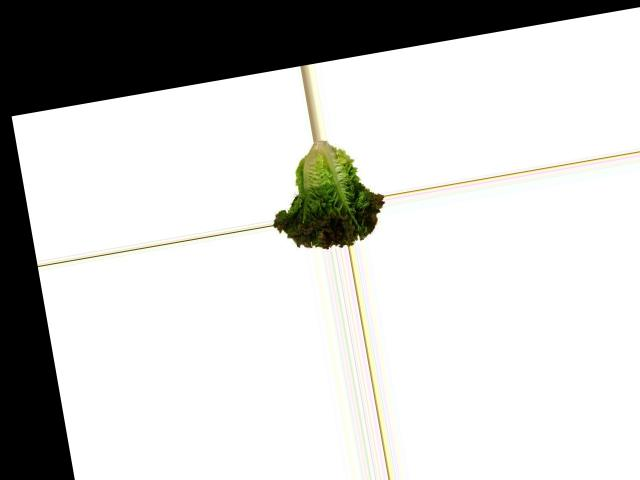lettuce: (260, 131, 389, 257)
